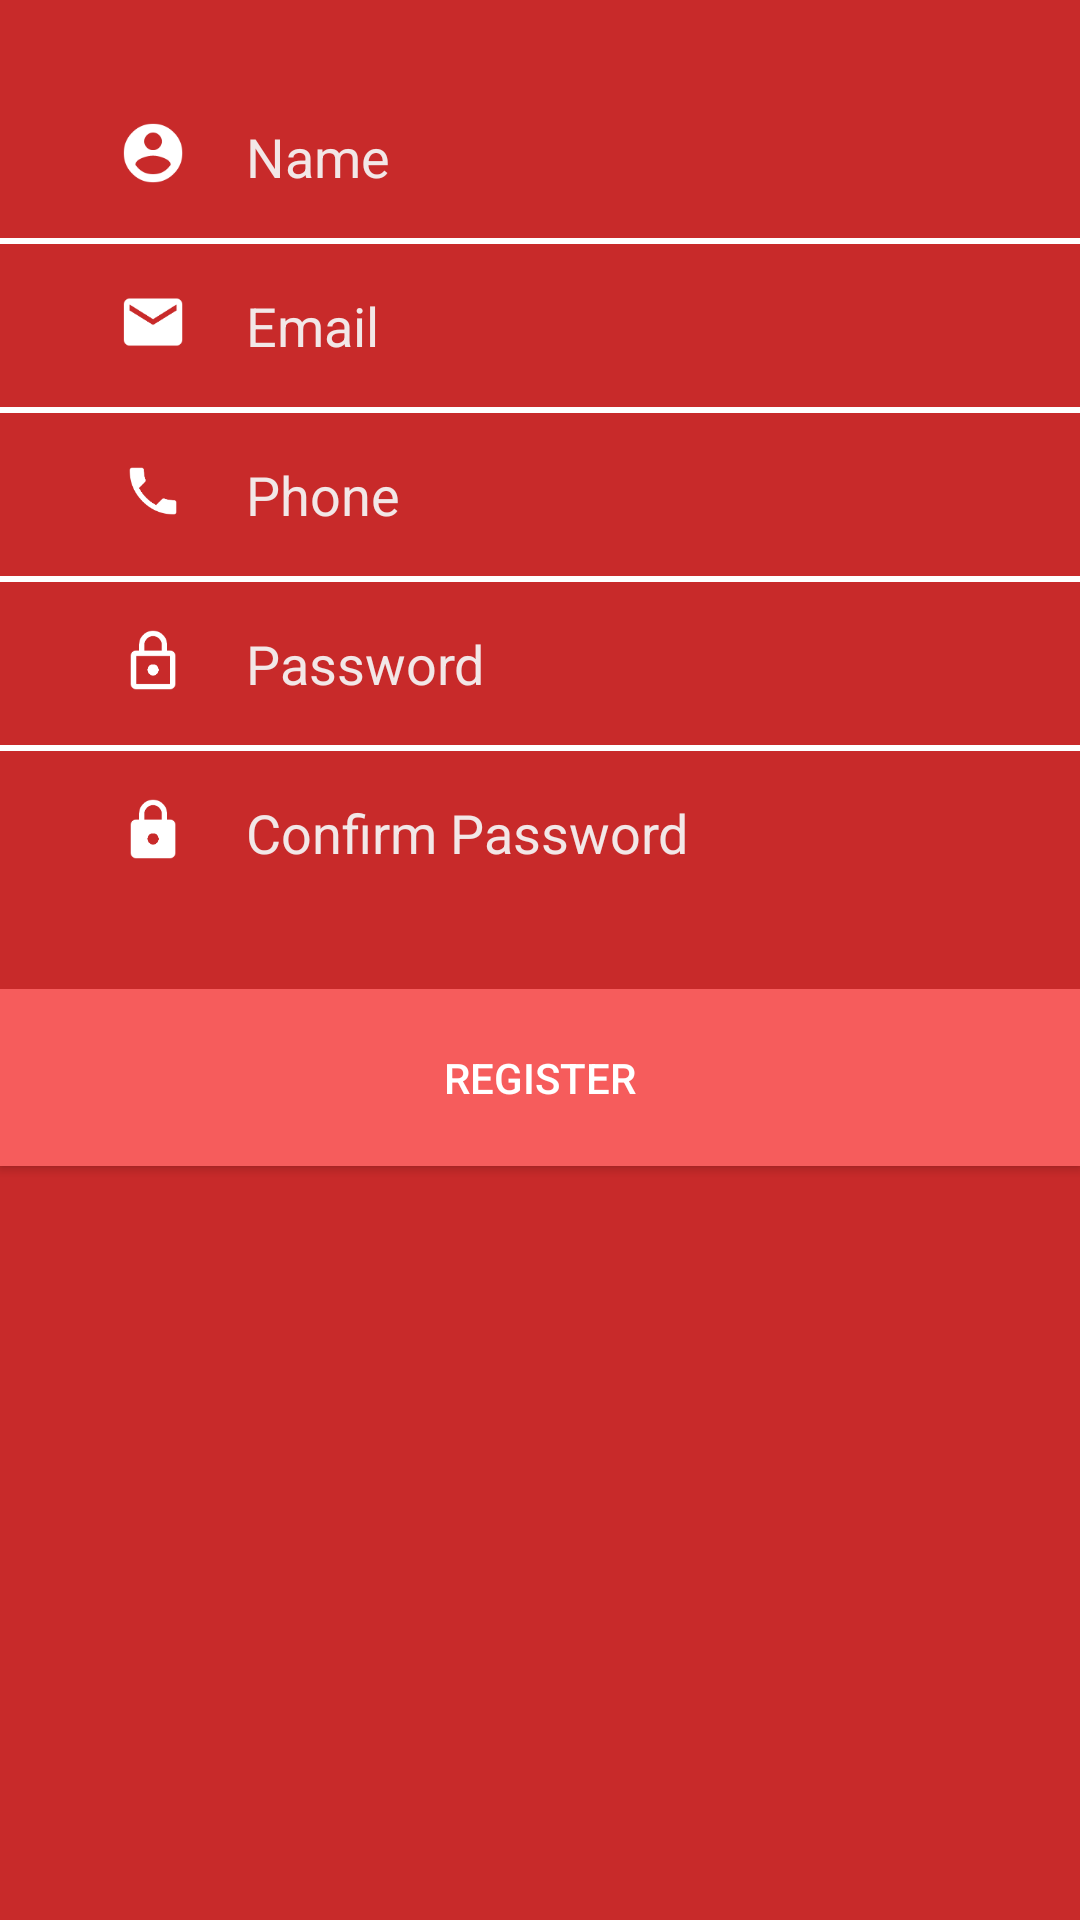

Icons on this 1080px x 1920px Android screen, each with the point to tap as (x,y):
account circle: (153,153)
lock: (153,660), (153,829)
